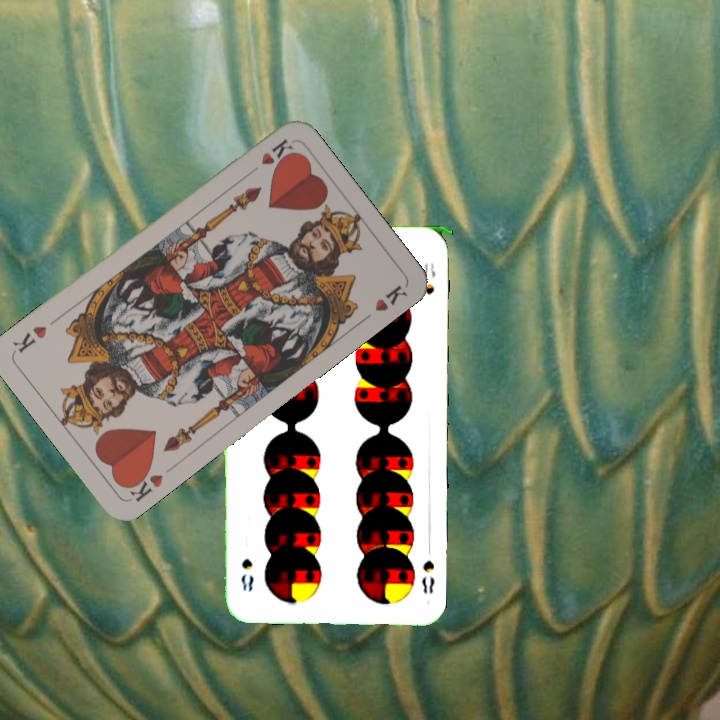HK: (121, 463, 166, 505), (257, 134, 296, 168)
S8: (417, 556, 437, 596)
